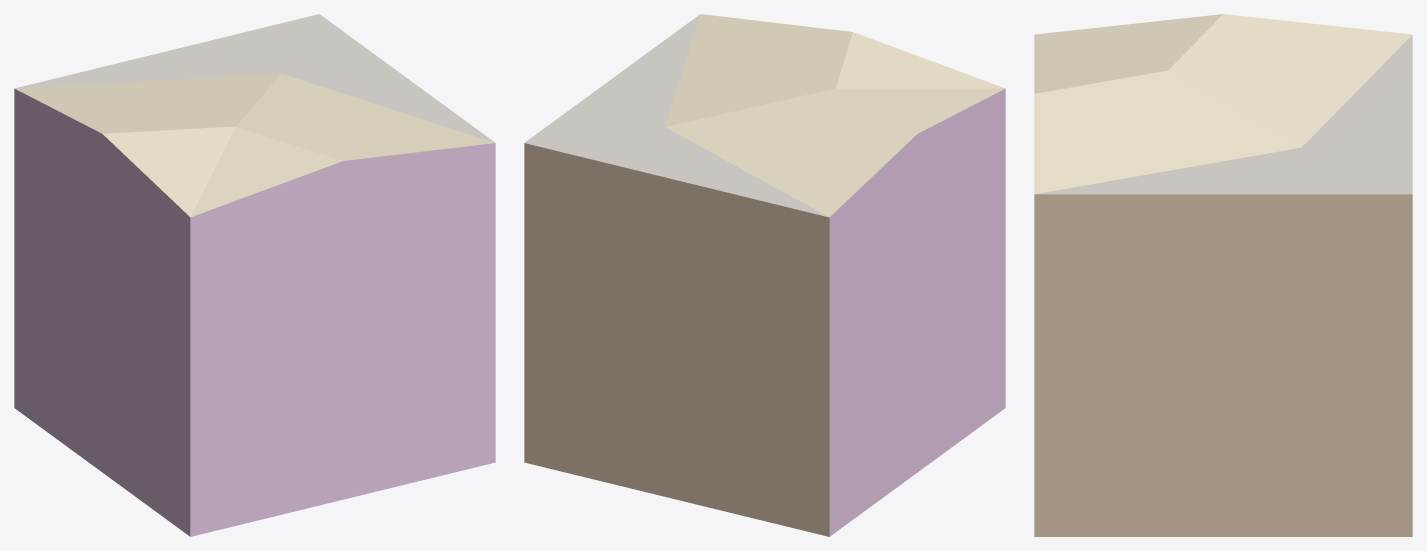
File: Tiered_Walkway_Path_Transition_Curve_Outer_1x1.glb
3 renders of one model, left to right at view 1: azimuth 30°, elevation 25°; view 2: azimuth 150°, elevation 25°; view 3: azimuth 270°, elevation 25°, orthographic. The views are drawn at different scales.
Parts seen in each view (by area): view 1: Tiered_Walkway_Path_Transition_Curve_Outer_1x1; view 2: Tiered_Walkway_Path_Transition_Curve_Outer_1x1; view 3: Tiered_Walkway_Path_Transition_Curve_Outer_1x1.
Boxes of the visible parts, box(x1,y1,x2,y2) form: Tiered_Walkway_Path_Transition_Curve_Outer_1x1: box(14, 14, 495, 536); Tiered_Walkway_Path_Transition_Curve_Outer_1x1: box(524, 14, 1005, 536); Tiered_Walkway_Path_Transition_Curve_Outer_1x1: box(1034, 14, 1412, 536).
Size of the model in its own units: 100 by 106 by 100.
